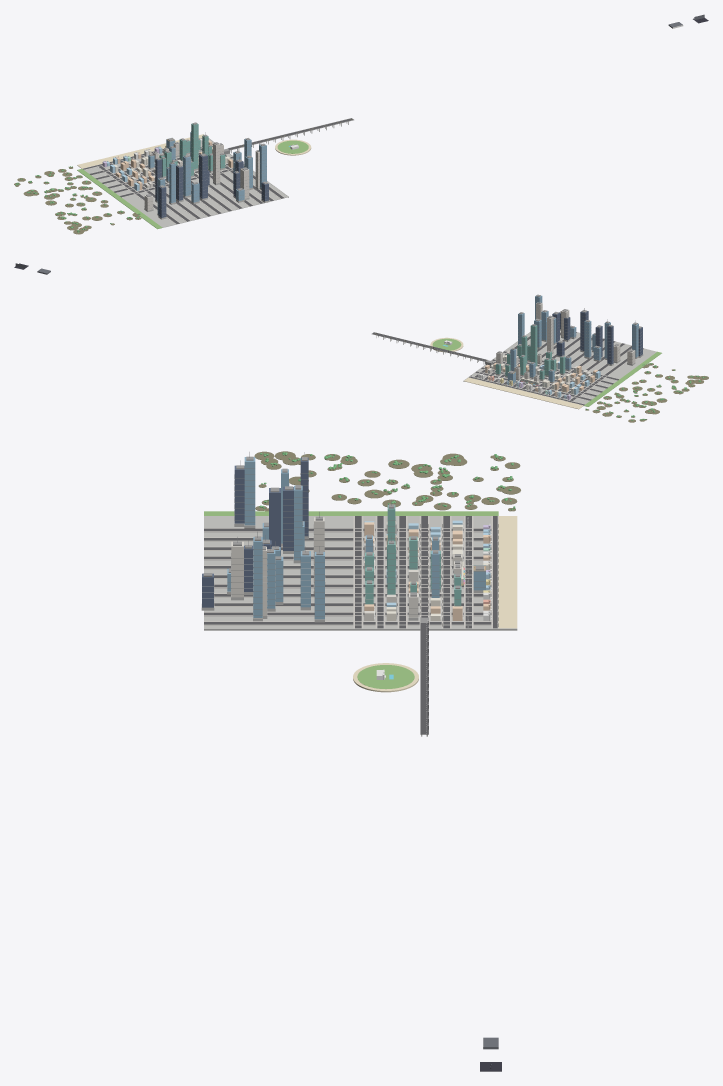
The model's file is world.glb.
The picture shows the model from 3 angles, top to bottom: view 1: azimuth 30°, elevation 25°; view 2: azimuth 150°, elevation 25°; view 3: azimuth 270°, elevation 25°; orthographic projection. The views are drawn at different scales.
Parts seen in each view (by area): view 1: concrete, asphalt, tower_glass, tower_glass_dark, sidewalk, swamp_mud, apartment, tower_glass_green, concrete_dark, turf, beach_sand, stucco_peach (+1 smaller); view 2: concrete, tower_glass, asphalt, sidewalk, swamp_mud, tower_glass_dark, apartment, tower_glass_green, concrete_dark, beach_sand, turf, stucco_peach (+3 smaller); view 3: asphalt, concrete, sidewalk, tower_glass, swamp_mud, tower_glass_dark, concrete_dark, beach_sand, apartment, turf, tower_glass_green, stucco_peach (+1 smaller).
Boxes of the visible parts, box(x1,y1,x2,y2) form: concrete: box(84, 118, 353, 227); asphalt: box(83, 118, 353, 223); tower_glass: box(148, 132, 266, 213); tower_glass_dark: box(155, 154, 268, 217); sidewalk: box(82, 139, 284, 224); swamp_mud: box(14, 167, 141, 234); apartment: box(131, 143, 259, 210); tower_glass_green: box(159, 123, 225, 176); concrete_dark: box(144, 120, 353, 216); turf: box(77, 140, 308, 229); beach_sand: box(77, 134, 311, 168); stucco_peach: box(116, 140, 233, 190); concrete: box(372, 329, 656, 404); tower_glass: box(507, 295, 638, 383); asphalt: box(372, 332, 643, 405); sidewalk: box(469, 332, 644, 405); swamp_mud: box(585, 363, 708, 422); tower_glass_dark: box(552, 311, 642, 364); apartment: box(487, 303, 635, 381); tower_glass_green: box(495, 325, 565, 379); concrete_dark: box(373, 294, 641, 381); beach_sand: box(430, 337, 583, 409); turf: box(432, 338, 661, 406); stucco_peach: box(485, 351, 597, 396); asphalt: box(204, 516, 497, 734); concrete: box(201, 516, 517, 736); sidewalk: box(204, 516, 498, 628); tower_glass: box(227, 457, 485, 619); swamp_mud: box(254, 451, 520, 511); tower_glass_dark: box(202, 457, 324, 607); concrete_dark: box(202, 456, 485, 734); beach_sand: box(353, 516, 517, 692); apartment: box(231, 517, 462, 620); turf: box(204, 511, 498, 688); tower_glass_green: box(365, 504, 461, 606); stucco_peach: box(364, 521, 490, 620).
Bounding box in the file's own units: 2658 × 186 × 579.
